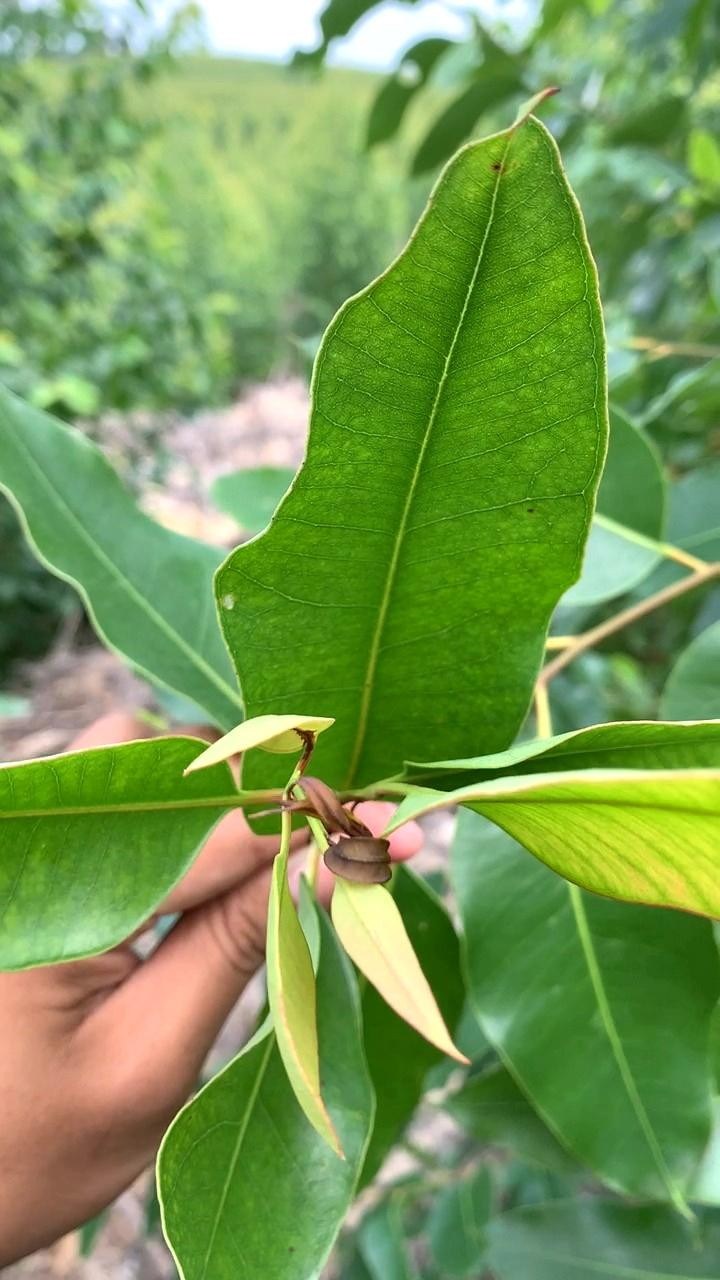Helopeltis-Withered Sprout: (289, 770, 396, 888)
